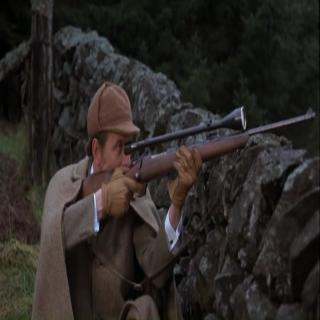gun: (73, 107, 315, 213)
